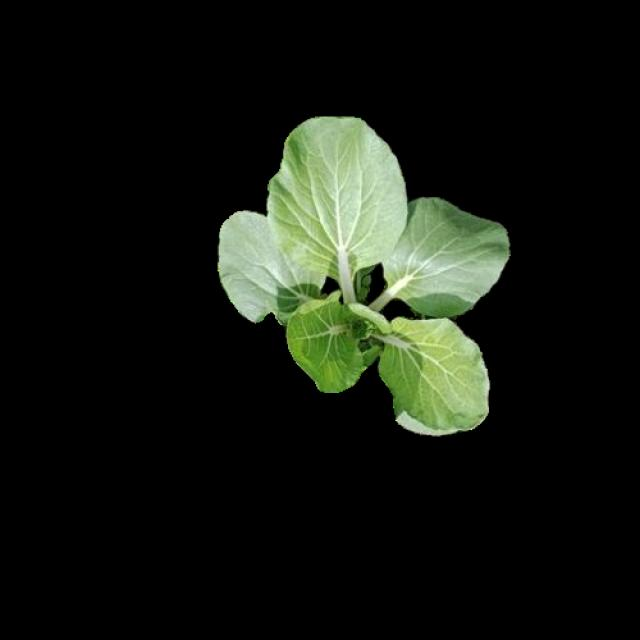healthy: (216, 111, 507, 428)
not-mature: (219, 114, 509, 430)
